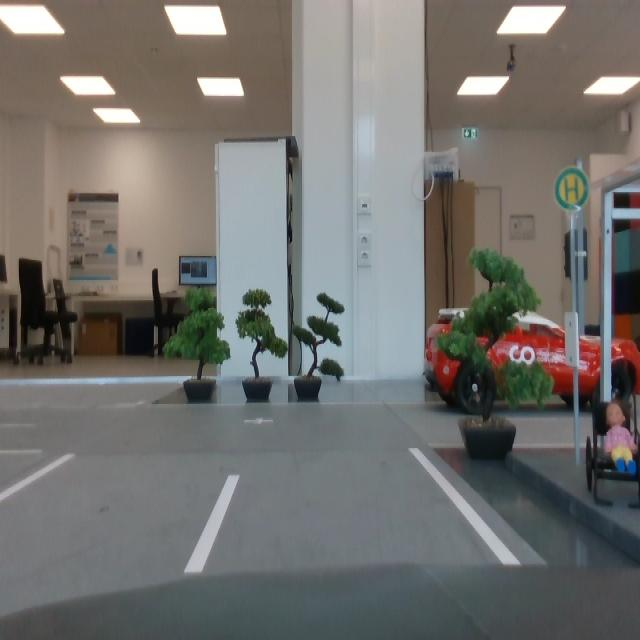car: (423, 306, 640, 417)
person: (603, 401, 639, 473)
potted plant: (436, 248, 555, 461), (162, 285, 231, 401), (235, 288, 289, 401), (292, 292, 345, 400)
traffic light: (566, 231, 589, 284)
